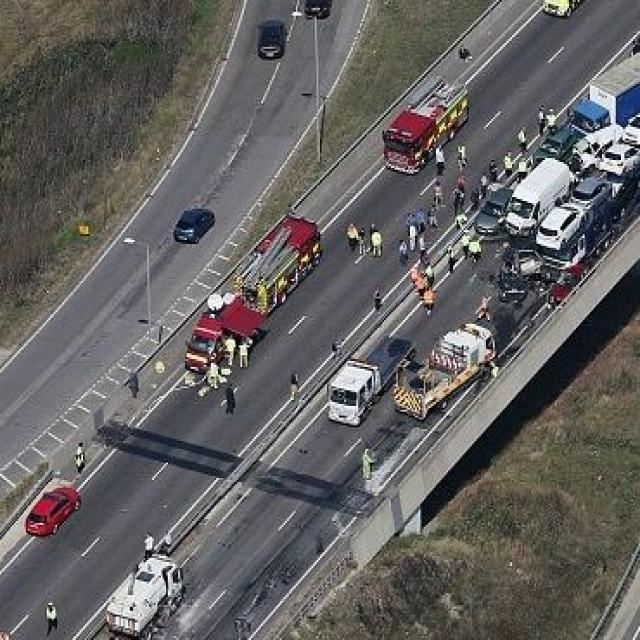traffic_incident: (496, 76, 632, 275)
